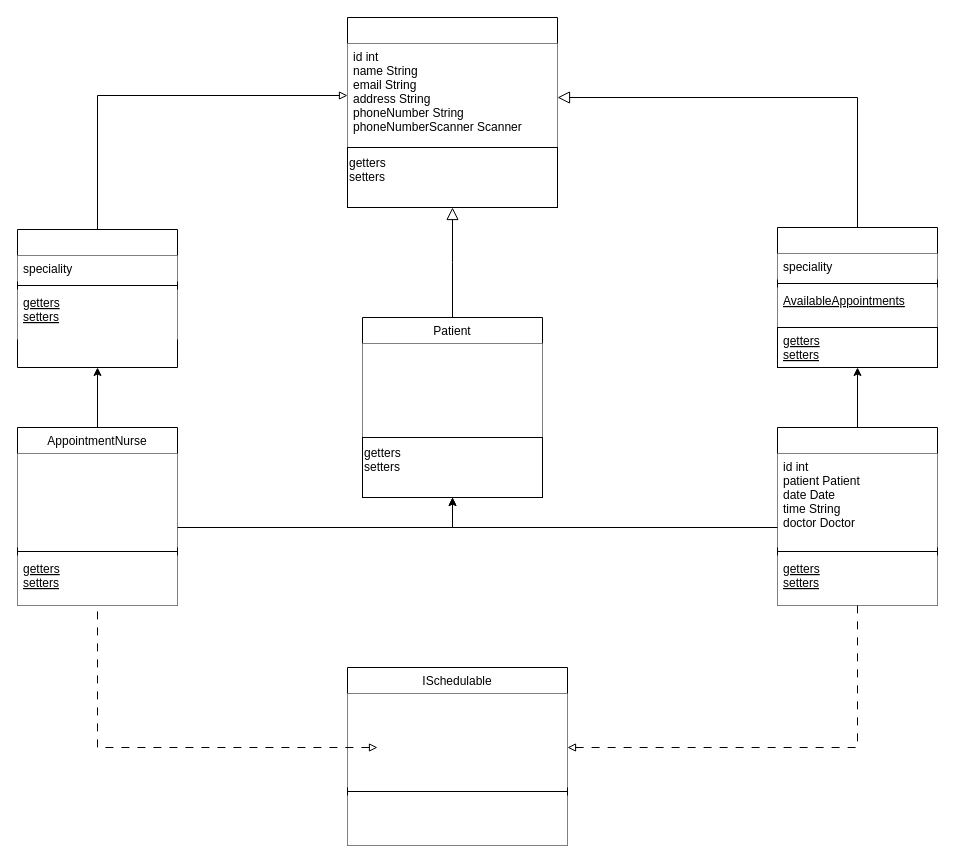
Image size: 955x866. Some labels were removed from this diagram. Each missing label, with the box of its shape:
AppointmentDoctor: (776, 426, 938, 606)
birthday String weight double height double blood String: (362, 343, 542, 437)
Doctor: (776, 226, 938, 368)
id int patient Patient date Date time String nurse Nurse: (17, 453, 177, 547)
Nurse: (16, 228, 178, 368)
schedulable(Date date, String time): (347, 795, 567, 845)
User: (346, 16, 558, 208)
